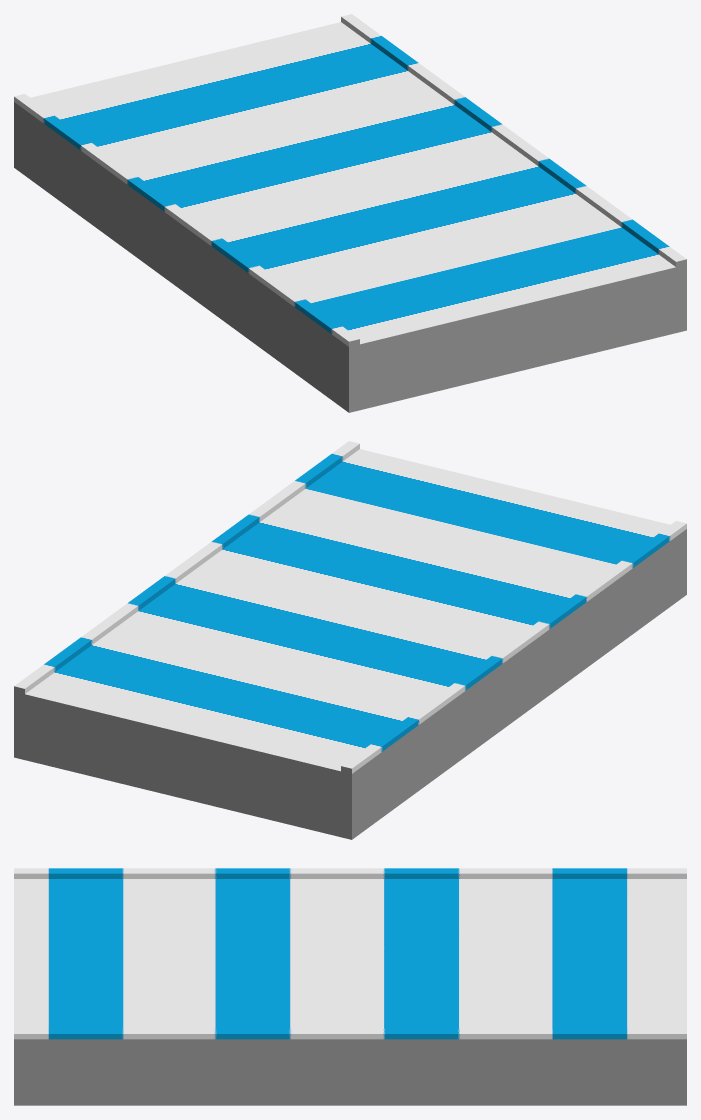
File: Platform.fbx
3 views of the same model, one above another, from view 1: azimuth 30°, elevation 25°; view 2: azimuth 150°, elevation 25°; view 3: azimuth 270°, elevation 25° (orthographic).
Visible parts, largest first — view 1: Platform; view 2: Platform; view 3: Platform.
Part boxes in pixels (bbox=[...]): Platform: bbox=[14, 14, 686, 412]; Platform: bbox=[14, 441, 686, 839]; Platform: bbox=[14, 868, 686, 1105].
Bounding box in the file's own units: 14.15 × 2.85 × 24.3.
